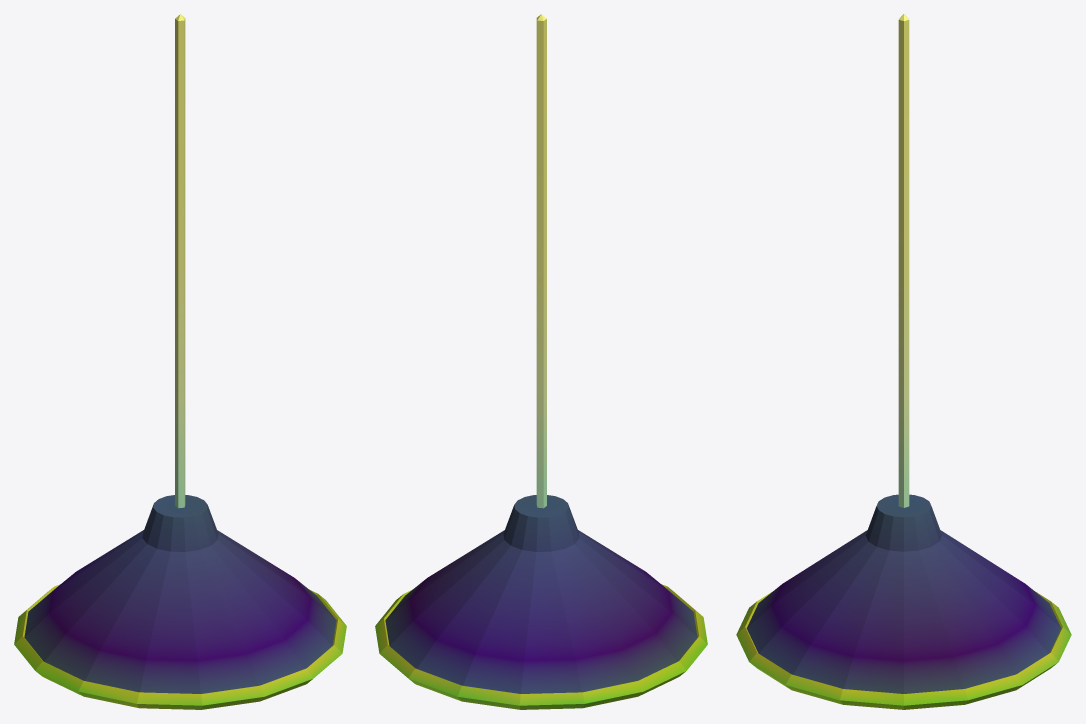
File: Prop_PendantLamp.fbx
3 views of the same model, side by side, from view 1: azimuth 30°, elevation 25°; view 2: azimuth 150°, elevation 25°; view 3: azimuth 270°, elevation 25° (orthographic).
Parts seen in each view (by area): view 1: Prop_PendantLamp; view 2: Prop_PendantLamp; view 3: Prop_PendantLamp.
Part boxes in pixels (x1,y1,x2,y2): Prop_PendantLamp: [14, 14, 346, 709]; Prop_PendantLamp: [375, 14, 707, 709]; Prop_PendantLamp: [736, 14, 1071, 709].
Size of the model in its own units: 0.612 by 1.31 by 0.612.
